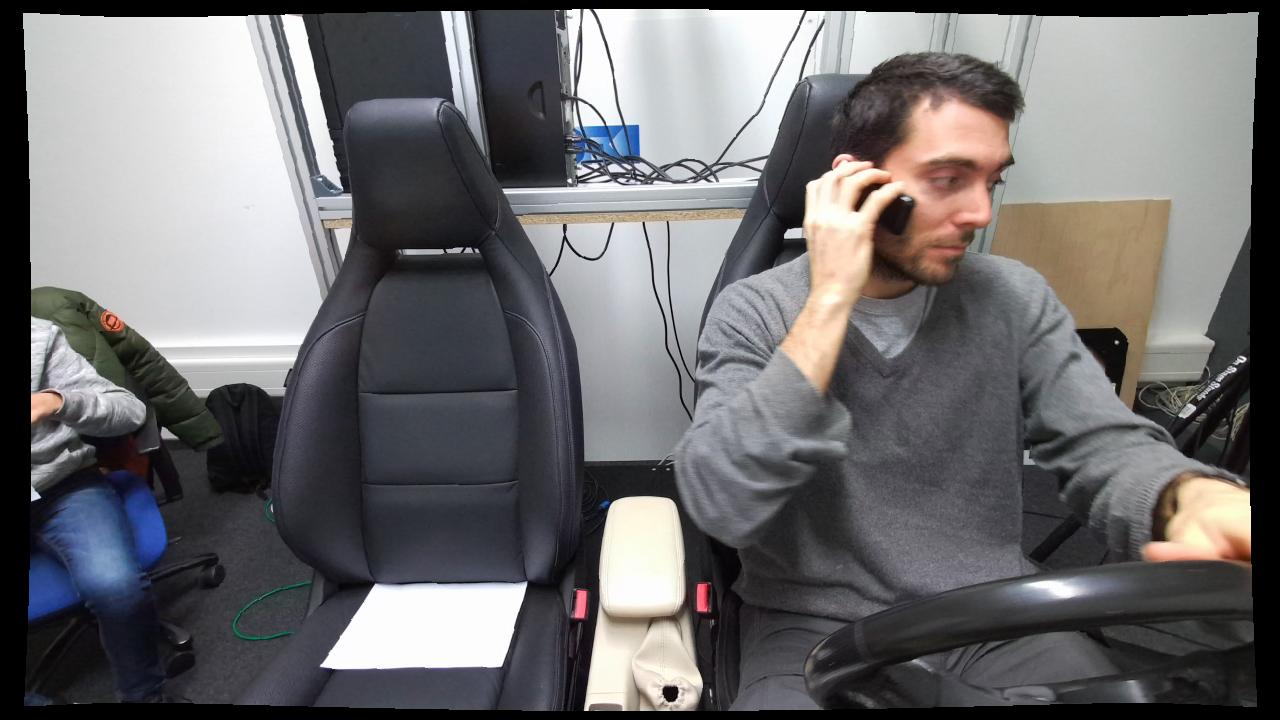Distracted: (674, 55, 1087, 713)
PhoneUse: (810, 158, 930, 259)
